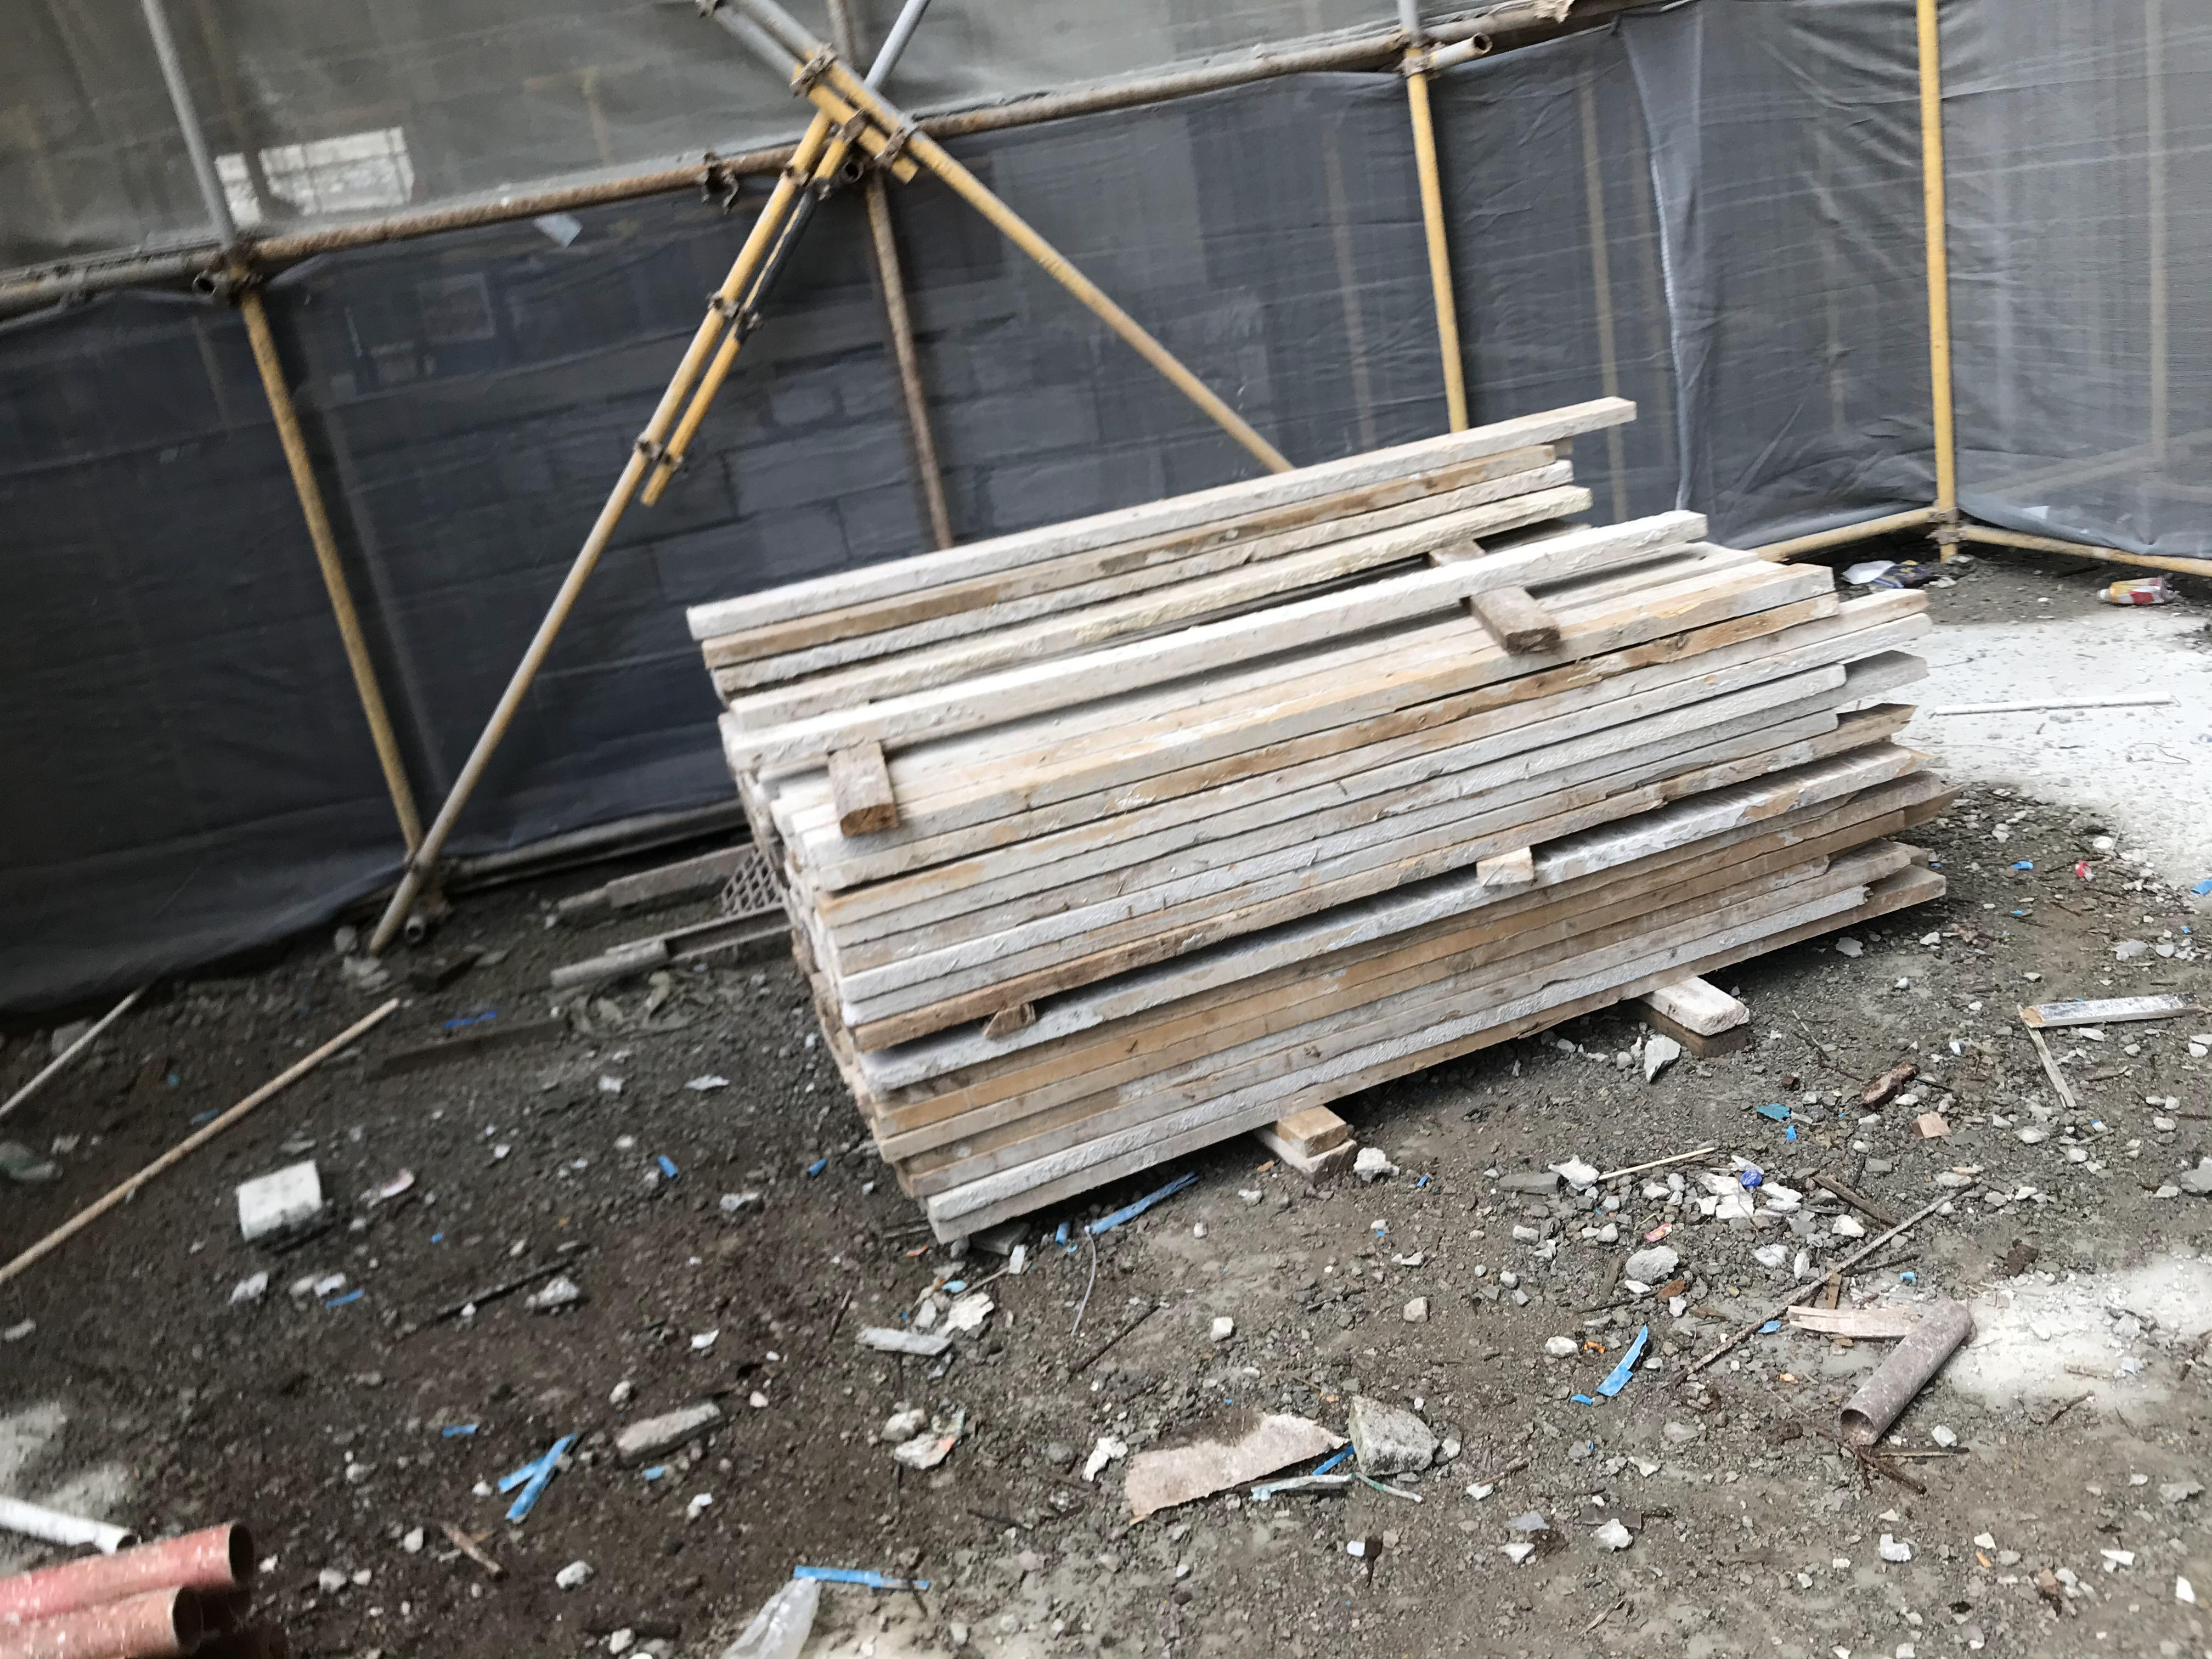wood: (669, 389, 1952, 1244)
